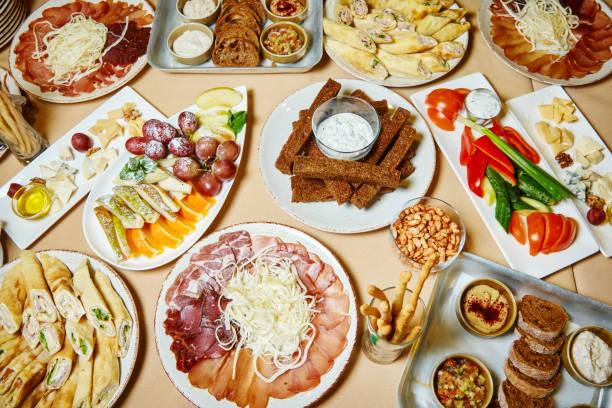Braised Crucian Carp: (151, 222, 353, 407), (396, 253, 608, 406), (81, 88, 243, 269), (256, 78, 428, 235), (0, 250, 139, 405), (9, 0, 150, 103), (145, 0, 318, 75), (321, 0, 464, 86), (478, 0, 610, 87), (562, 325, 612, 386)
